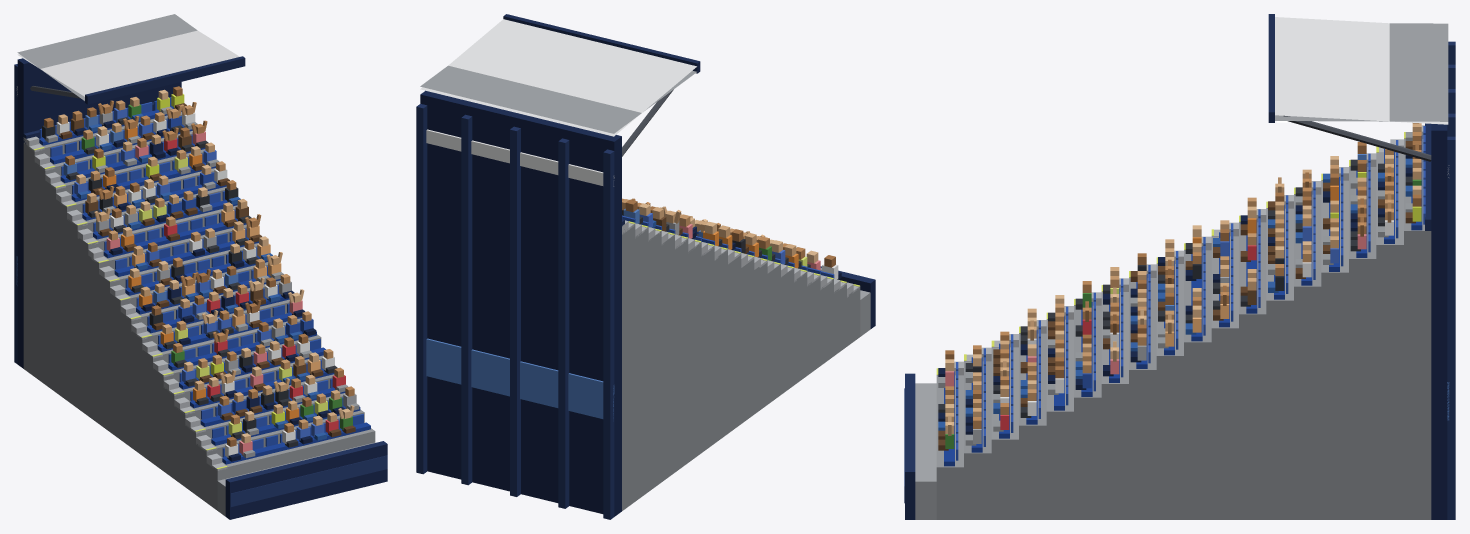
File: Stand_w22_3.glb
3 views of the same model, side by side, from view 1: azimuth 30°, elevation 25°; view 2: azimuth 150°, elevation 25°; view 3: azimuth 270°, elevation 25° (orthographic). The views are drawn at different scales.
Parts seen in each view (by area): view 1: Stand_w22_3; view 2: Stand_w22_3; view 3: Stand_w22_3.
Boxes of the visible parts, <box> form: Stand_w22_3: <box>14,14,387,519</box>; Stand_w22_3: <box>416,14,875,519</box>; Stand_w22_3: <box>904,14,1455,519</box>.
Bounding box in the file's own units: 22 × 42.55 × 52.16.
Materials: 2 (1 with a texture image).
